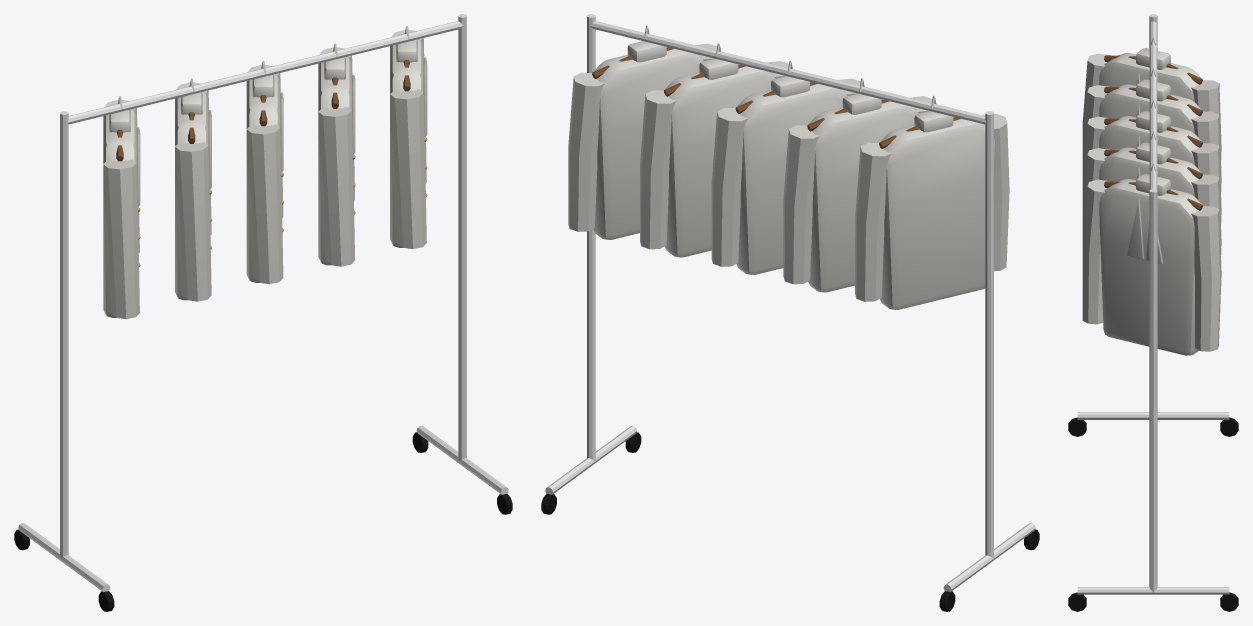
File: jacket_rack.glb
3 renders of one model, left to right at view 1: azimuth 30°, elevation 25°; view 2: azimuth 150°, elevation 25°; view 3: azimuth 270°, elevation 25°, orthographic. The views are drawn at different scales.
Parts seen in each view (by area): view 1: jacket_rack, Jacket_3, Jacket_4, Jacket_1, Jacket_5, Jacket_2; view 2: Jacket_1, Jacket_3, Jacket_2, Jacket_5, Jacket_4, jacket_rack; view 3: Jacket_5, jacket_rack, Jacket_4, Jacket_2, Jacket_1, Jacket_3.
Part boxes in pixels (x1,y1,x2,y2): jacket_rack: (14,14,512,611); Jacket_3: (246,61,283,284); Jacket_4: (318,43,355,266); Jacket_1: (103,96,140,319); Jacket_5: (390,26,427,248); Jacket_2: (175,78,212,301); Jacket_1: (855,96,1009,309); Jacket_3: (711,61,860,274); Jacket_2: (783,78,932,292); Jacket_5: (568,26,717,239); Jacket_4: (640,43,788,257); jacket_rack: (541,14,1039,611); Jacket_5: (1082,163,1221,355); jacket_rack: (1068,14,1238,611); Jacket_4: (1082,131,1221,254); Jacket_2: (1082,68,1221,191); Jacket_1: (1082,37,1221,159); Jacket_3: (1082,100,1221,222).
Bounding box in the file's own units: 1.53 × 1.69 × 0.6166.
